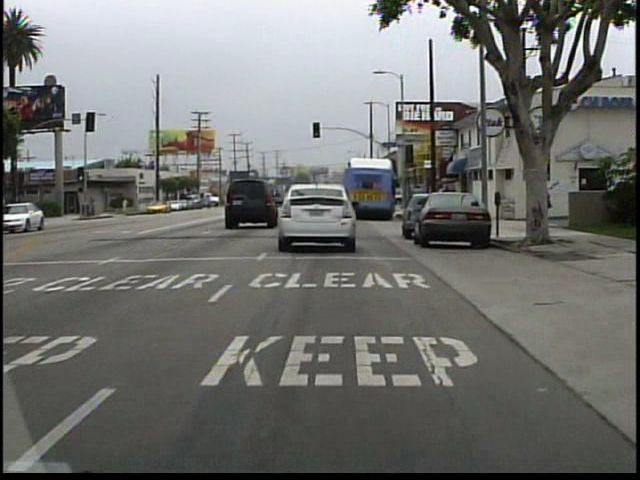person: (522, 175, 542, 231), (533, 177, 550, 233), (122, 196, 132, 215)
